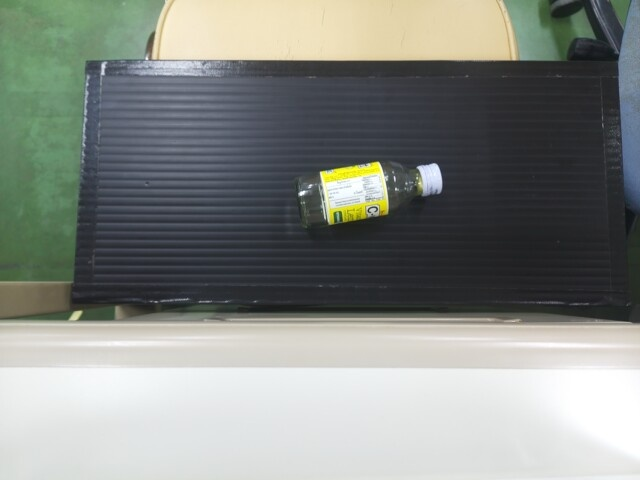glass_bottle: (292, 160, 443, 220)
